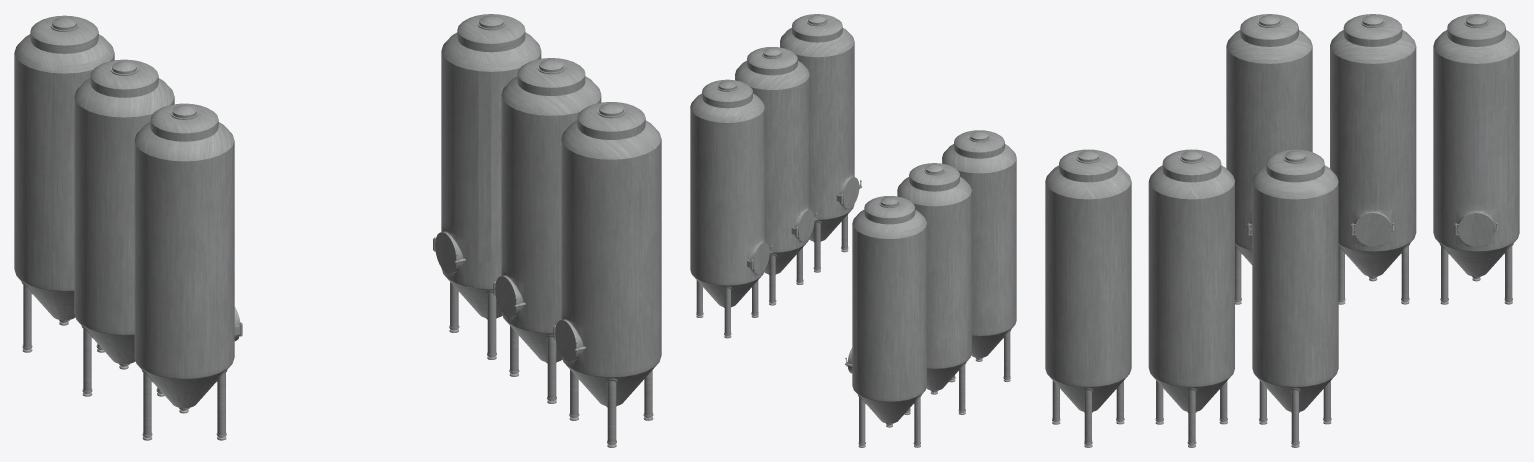
The model's file is Alu_Tanks.fbx.
3 views of the same model, side by side, from view 1: azimuth 30°, elevation 25°; view 2: azimuth 150°, elevation 25°; view 3: azimuth 270°, elevation 25° (orthographic). The views are drawn at different scales.
Parts seen in each view (by area): view 1: 07_Tank_Lagertank_03, 06_Tank_Gärung_03, 07_Tank_Lagertank_02, 07_Tank_Lagertank_01_test2, 06_Tank_Gärung_02, 06_Tank_Gärung_01_test2; view 2: 07_Tank_Lagertank_01_test2, 06_Tank_Gärung_01_test2, 07_Tank_Lagertank_03, 07_Tank_Lagertank_02, 06_Tank_Gärung_03, 06_Tank_Gärung_02; view 3: 07_Tank_Lagertank_02, 06_Tank_Gärung_01_test2, 07_Tank_Lagertank_03, 07_Tank_Lagertank_01_test2, 06_Tank_Gärung_02, 06_Tank_Gärung_03.
Boxes of the visible parts, box(x1,y1,x2,y2) form: 07_Tank_Lagertank_03: box(553, 102, 661, 447); 06_Tank_Gärung_03: box(134, 103, 242, 440); 07_Tank_Lagertank_02: box(493, 58, 601, 403); 07_Tank_Lagertank_01_test2: box(433, 14, 541, 359); 06_Tank_Gärung_02: box(74, 59, 174, 396); 06_Tank_Gärung_01_test2: box(14, 15, 114, 352); 07_Tank_Lagertank_01_test2: box(690, 79, 772, 338); 06_Tank_Gärung_01_test2: box(845, 196, 926, 447); 07_Tank_Lagertank_03: box(780, 14, 861, 272); 07_Tank_Lagertank_02: box(735, 47, 817, 305); 06_Tank_Gärung_03: box(942, 130, 1016, 382); 06_Tank_Gärung_02: box(897, 163, 971, 414); 07_Tank_Lagertank_02: box(1148, 149, 1234, 447); 06_Tank_Gärung_01_test2: box(1433, 14, 1519, 304); 07_Tank_Lagertank_03: box(1045, 149, 1131, 447); 07_Tank_Lagertank_01_test2: box(1252, 149, 1338, 447); 06_Tank_Gärung_02: box(1330, 14, 1416, 304); 06_Tank_Gärung_03: box(1226, 14, 1312, 304).
Bounding box in the file's own units: 843 × 635 × 983.
